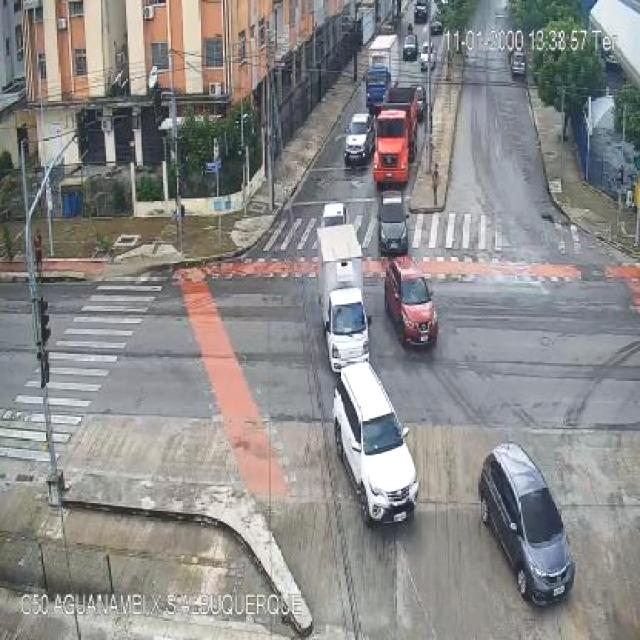Car: (476, 441, 576, 608), (330, 361, 421, 527), (381, 254, 439, 350), (377, 189, 412, 253), (344, 112, 376, 164), (319, 200, 347, 230), (411, 84, 427, 118), (419, 40, 436, 71), (402, 34, 419, 60), (511, 50, 526, 78), (430, 21, 444, 35)
Truck: (316, 222, 375, 375), (373, 86, 421, 186), (363, 33, 401, 109), (414, 0, 430, 22)
